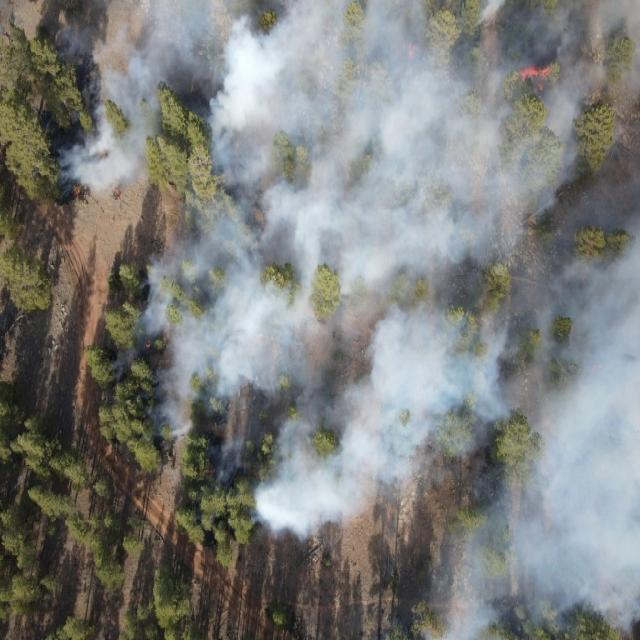fire: (519, 62, 553, 78), (406, 40, 420, 60), (584, 238, 596, 261), (589, 362, 603, 377), (144, 338, 154, 352), (202, 466, 216, 475), (112, 188, 122, 198), (537, 82, 546, 92), (74, 185, 82, 195)
smoke: (47, 1, 640, 212), (415, 214, 640, 640), (252, 213, 416, 542), (172, 212, 252, 510), (138, 249, 172, 441), (109, 339, 137, 390)
